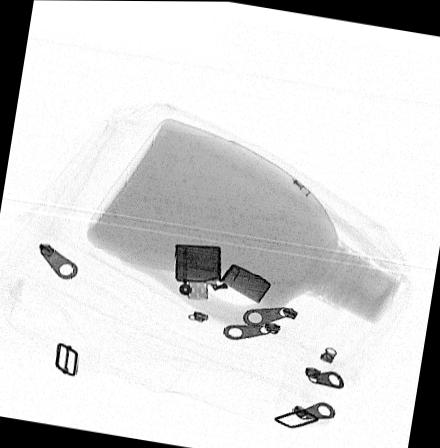Lighter: (174, 243, 270, 302)
